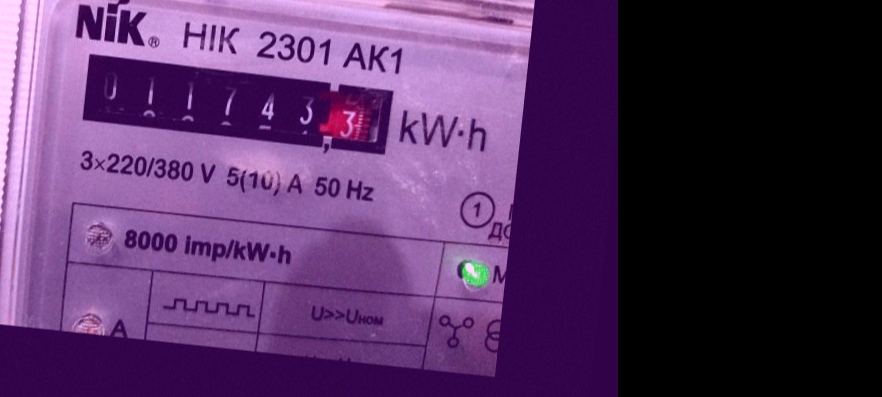0: (98, 66, 120, 104)
1: (180, 76, 199, 111), (144, 72, 157, 105)
3: (293, 91, 316, 127), (336, 107, 357, 142)
4: (256, 87, 277, 122)
7: (218, 82, 239, 117)
screen: (65, 40, 407, 169)
